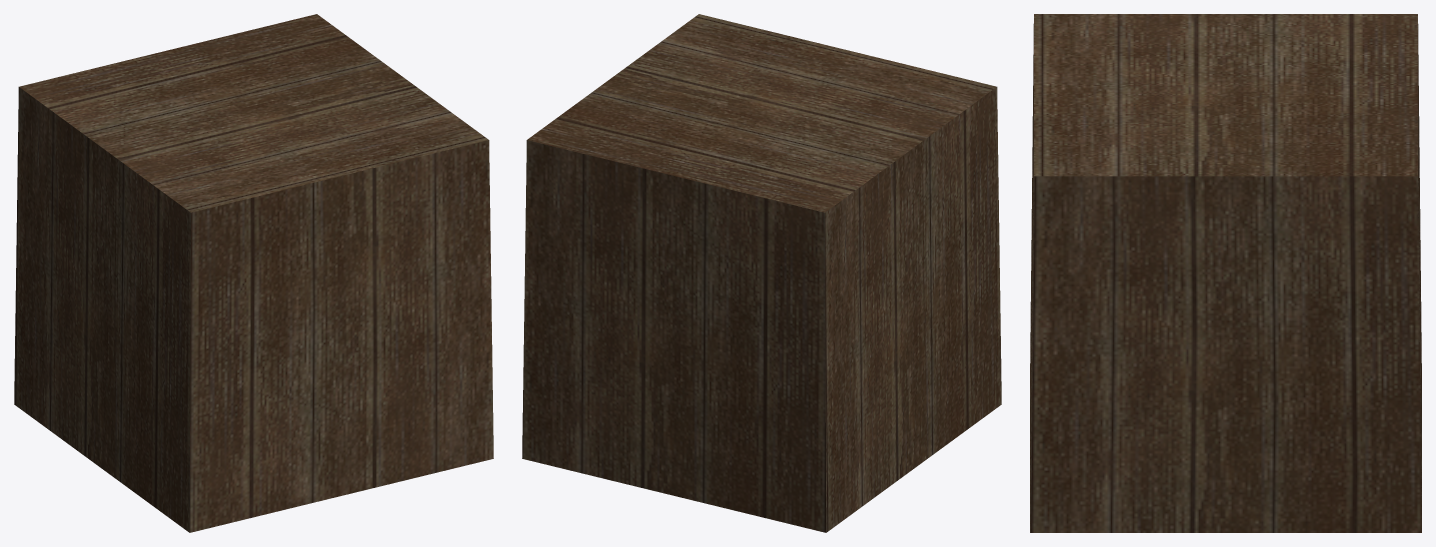
File: SM_TI_Wood_1_Block_0.fbx
The picture shows the model from 3 angles, left to right: view 1: azimuth 30°, elevation 25°; view 2: azimuth 150°, elevation 25°; view 3: azimuth 270°, elevation 25°; orthographic projection. The views are drawn at different scales.
Visible parts, largest first — view 1: SM_TI_Wood_1_Block_0; view 2: SM_TI_Wood_1_Block_0; view 3: SM_TI_Wood_1_Block_0.
Boxes of the visible parts, <box> form: SM_TI_Wood_1_Block_0: <box>14,14,493,532</box>; SM_TI_Wood_1_Block_0: <box>522,14,1001,532</box>; SM_TI_Wood_1_Block_0: <box>1030,14,1421,532</box>.
Bounding box in the file's own units: 5 × 5 × 5.
